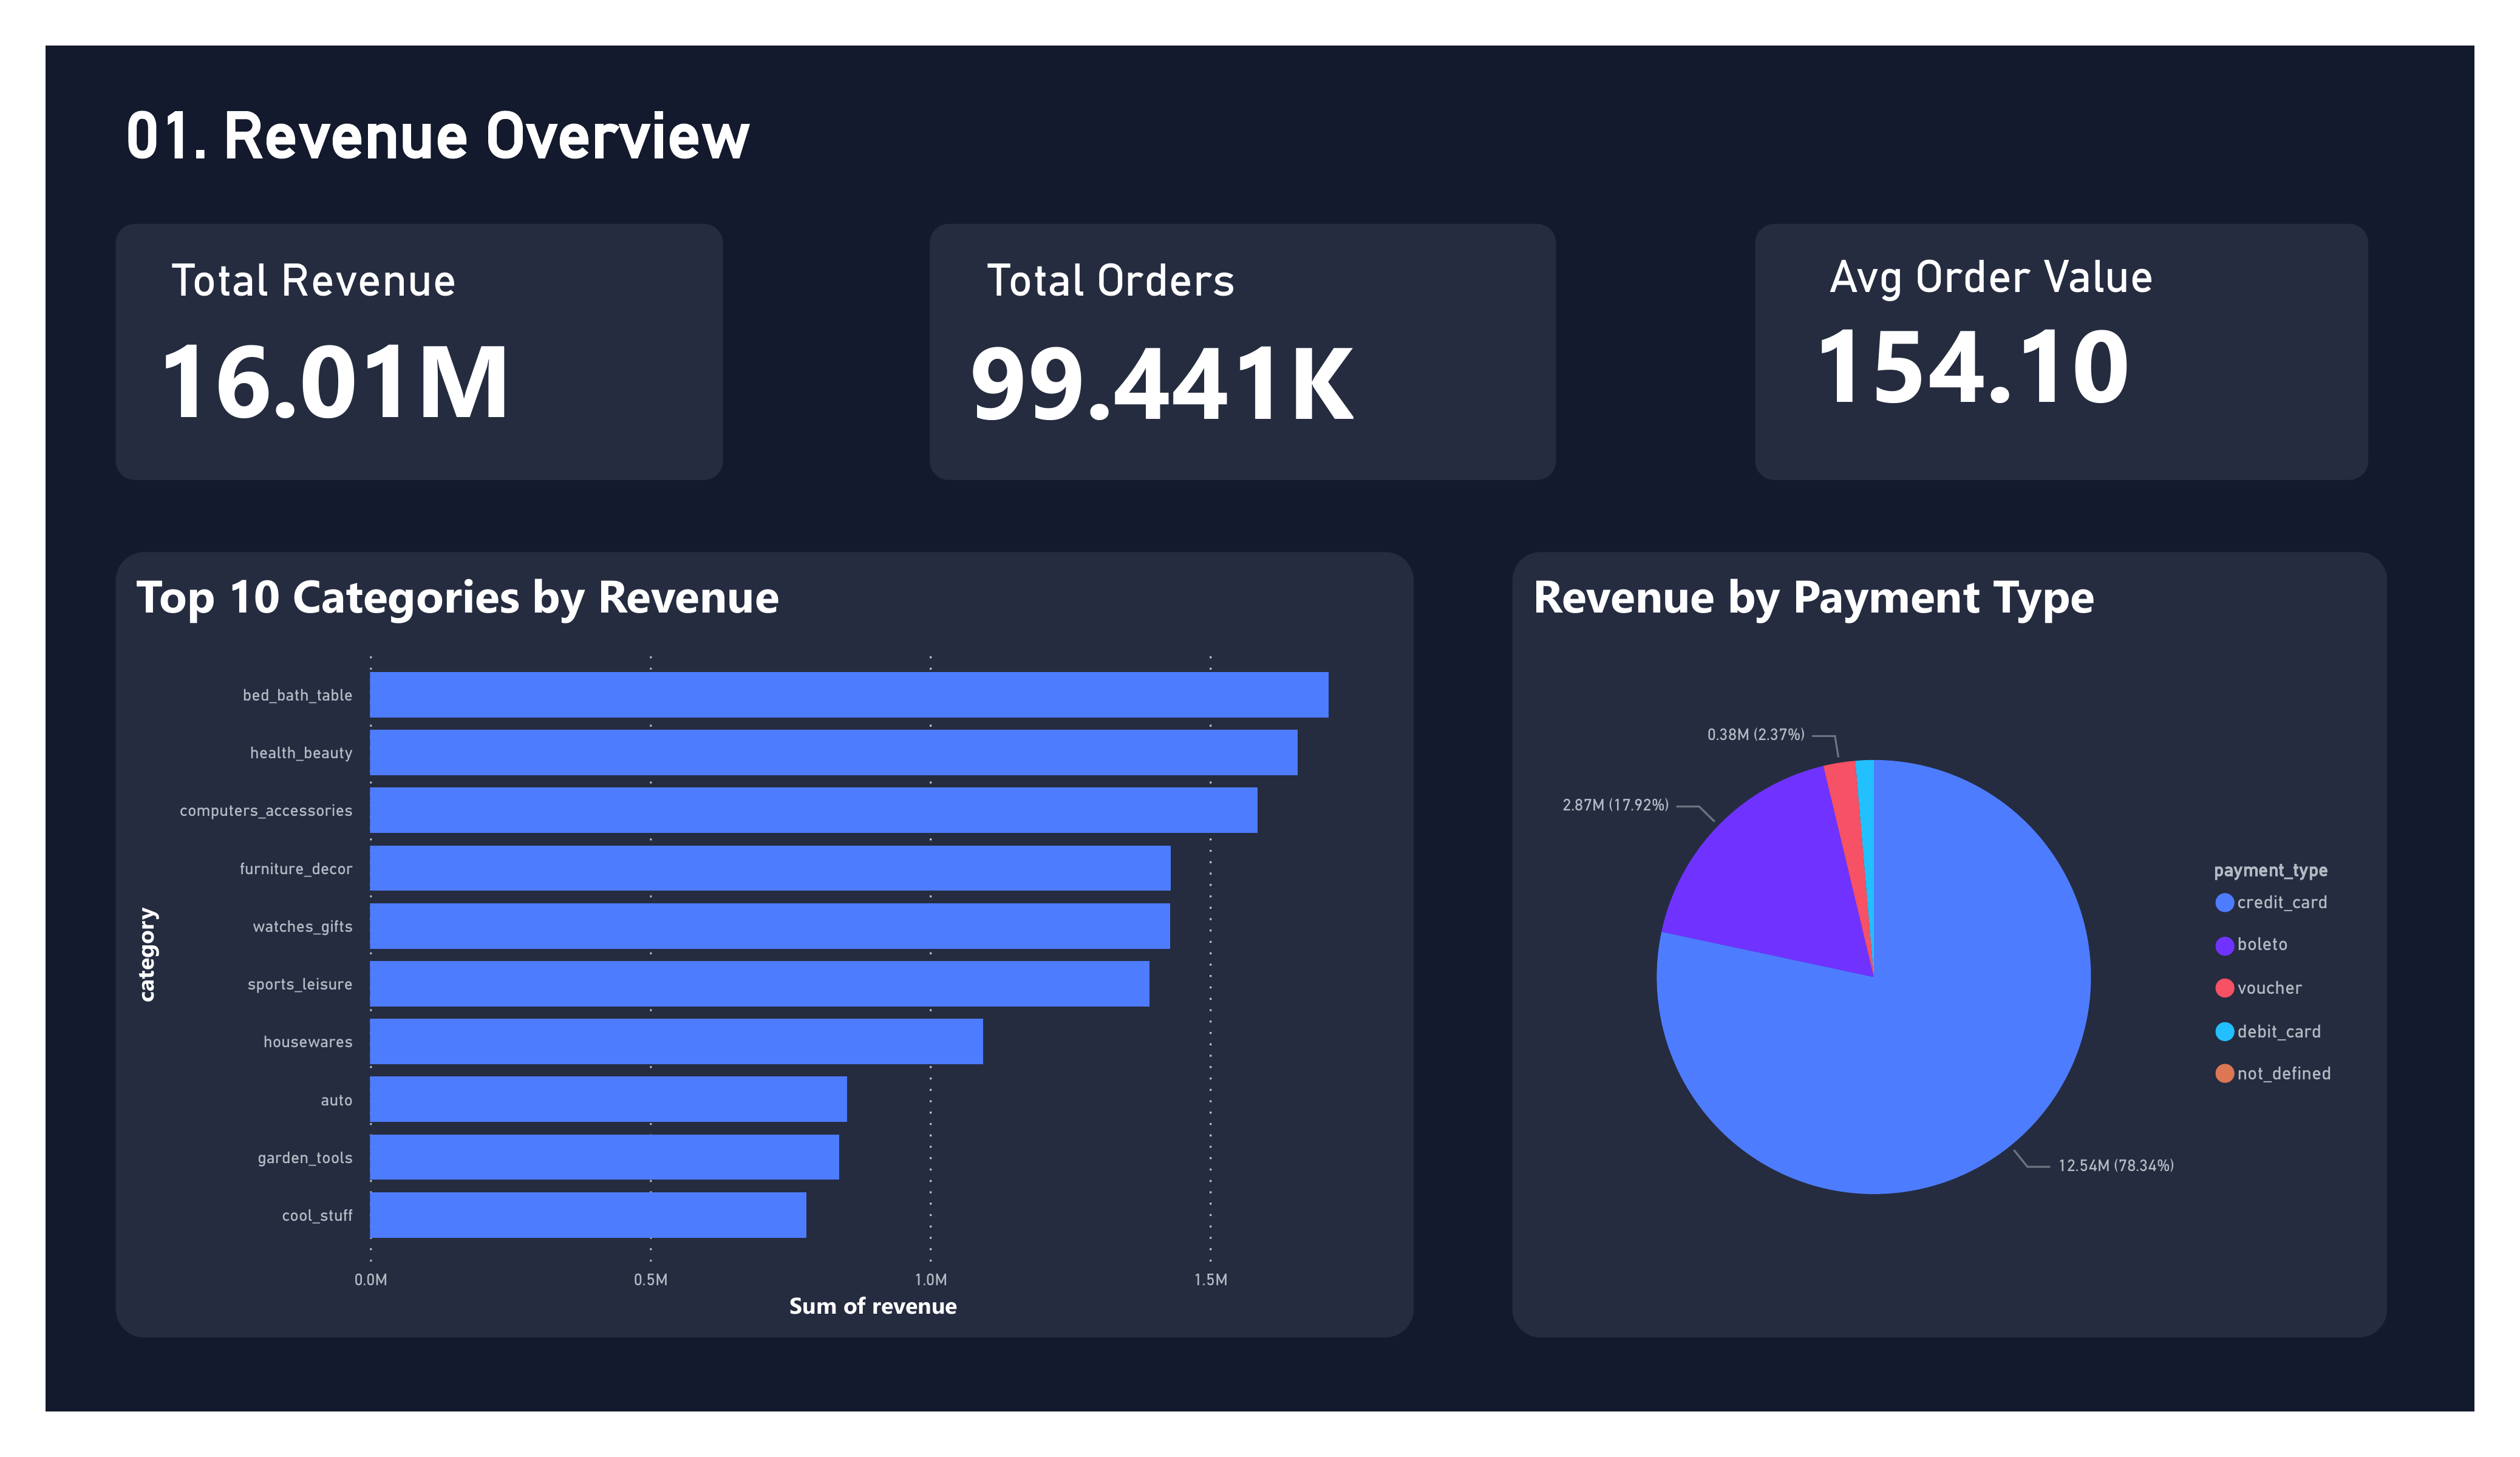

The dashboard page shown, as its layout file describes it:
{"tool":"powerbi","page":{"name":"01. Revenue Overview","canvas":[1280,720],"ordinal":0},"visuals":[{"type":"cardVisual","fields":{"Data":["Sum(public order_payments.payment_value)"]},"box":[37.1,94.3,320.2,134.8],"z":0,"group":"g1"},{"type":"clusteredBarChart","title":"Top 10 Categories by Revenue","fields":{"Category":["Revenue by Category.category"],"Y":["Sum(Revenue by Category.revenue)"]},"box":[37.1,267.1,684.3,414.3],"z":0},{"type":"cardVisual","fields":{"Data":["Count(public orders_clean.order_id)"]},"box":[465.7,94.3,330.2,135.3],"z":1000,"group":"g2"},{"type":"pieChart","title":"Revenue by Payment Type","fields":{"Category":["public order_payments.payment_type"],"Y":["Sum(public order_payments.payment_value)"]},"box":[772.9,267.1,461.4,414.3],"z":1000},{"type":"textbox","box":[37.5,23.4,357.3,50.4],"z":2000},{"type":"cardVisual","title":"Total Revenue","fields":{"Data":["Avg(public order_payments.payment_value)"]},"box":[901.4,94.3,322.7,135.3],"z":2000,"group":"g3"},{"type":"group","id":"g1","title":"Group 1","box":[37.1,94.3,320,134.3],"z":3000},{"type":"group","id":"g2","title":"Group 2","box":[465.7,94.3,330,134.3],"z":4000},{"type":"group","id":"g3","title":"Group 3","box":[901.4,94.3,322.9,135.7],"z":5000},{"type":"textbox","box":[935.1,103.8,255.9,39.6],"z":5000,"group":"g3"},{"type":"textbox","box":[490.7,105.5,177.3,37],"z":6000,"group":"g2"},{"type":"textbox","box":[61.4,104.9,237.3,37],"z":7000,"group":"g1"}]}

Visuals, with their boxes on the page's 1280x720 design canvas (x1, y1, x2, y2). These are canvas units, not pixel positions in the 2520x1457 screenshot, which may show the page scaled, cropped or inside an application window:
cardVisual - Sum(public order_payments.payment_value): Rect(37, 94, 357, 229)
"Top 10 Categories by Revenue" clusteredBarChart: Rect(37, 267, 721, 681)
cardVisual - Count(public orders_clean.order_id): Rect(466, 94, 796, 230)
"Revenue by Payment Type" pieChart: Rect(773, 267, 1234, 681)
textbox: Rect(38, 23, 395, 74)
"Total Revenue" cardVisual: Rect(901, 94, 1224, 230)
"Group 1" group: Rect(37, 94, 357, 229)
"Group 2" group: Rect(466, 94, 796, 229)
"Group 3" group: Rect(901, 94, 1224, 230)
textbox: Rect(935, 104, 1191, 143)
textbox: Rect(491, 106, 668, 142)
textbox: Rect(61, 105, 299, 142)
